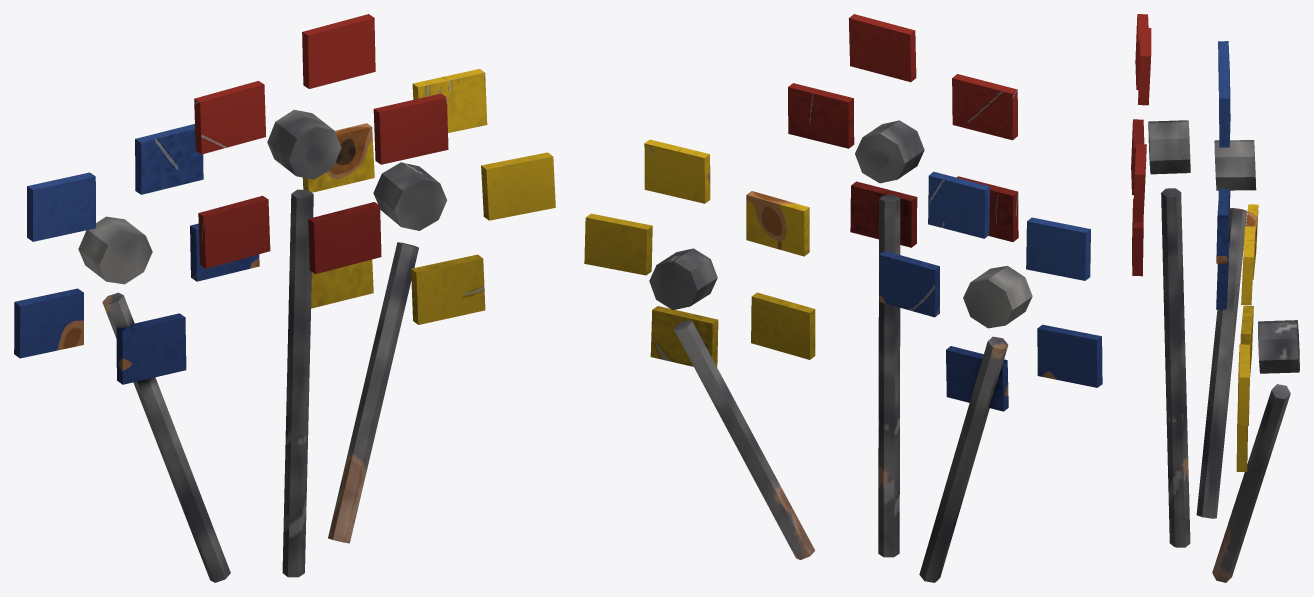
The model's file is FlowerFan.glb.
3 views of the same model, side by side, from view 1: azimuth 30°, elevation 25°; view 2: azimuth 150°, elevation 25°; view 3: azimuth 270°, elevation 25° (orthographic). The views are drawn at different scales.
Visible parts, largest first — view 1: Stems, Blades1, Blades3, Blades2; view 2: Stems, Blades2, Blades3, Blades1; view 3: Stems, Blades1, Blades2, Blades3.
Boxes of the visible parts, x1=… form: Stems: x1=78, y1=109, x2=447, y2=582; Blades1: x1=194, y1=14, x2=448, y2=274; Blades3: x1=14, y1=124, x2=259, y2=384; Blades2: x1=302, y1=69, x2=555, y2=324; Stems: x1=649, y1=120, x2=1032, y2=582; Blades2: x1=584, y1=139, x2=815, y2=366; Blades3: x1=879, y1=171, x2=1102, y2=411; Blades1: x1=788, y1=14, x2=1018, y2=247; Stems: x1=1148, y1=120, x2=1299, y2=582; Blades1: x1=1131, y1=14, x2=1151, y2=276; Blades2: x1=1236, y1=204, x2=1258, y2=471; Blades3: x1=1216, y1=41, x2=1230, y2=309.
Bounding box in the file's own units: 1.69 × 1.66 × 0.4887.
4 materials, 4 textured.
